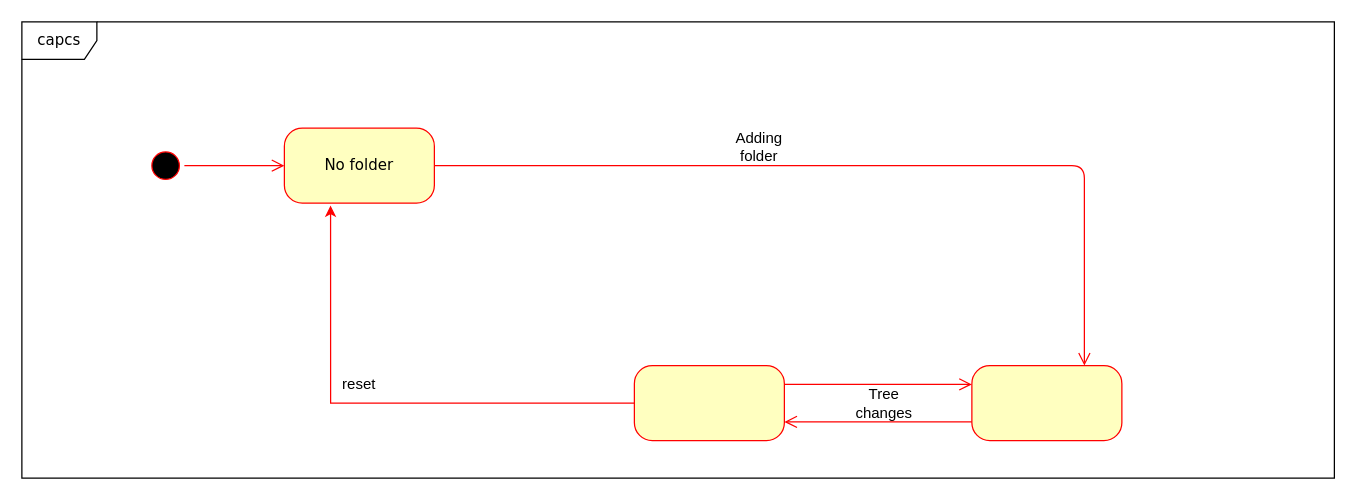
Some shapes in this 1356 by 500 pixel diagram are drawn without their labels. The box of each missing label's shape, as (x1, y1, x2, y2) in pixels:
n folder added: (971, 364, 1122, 441)
synchronizing: (633, 364, 784, 441)
